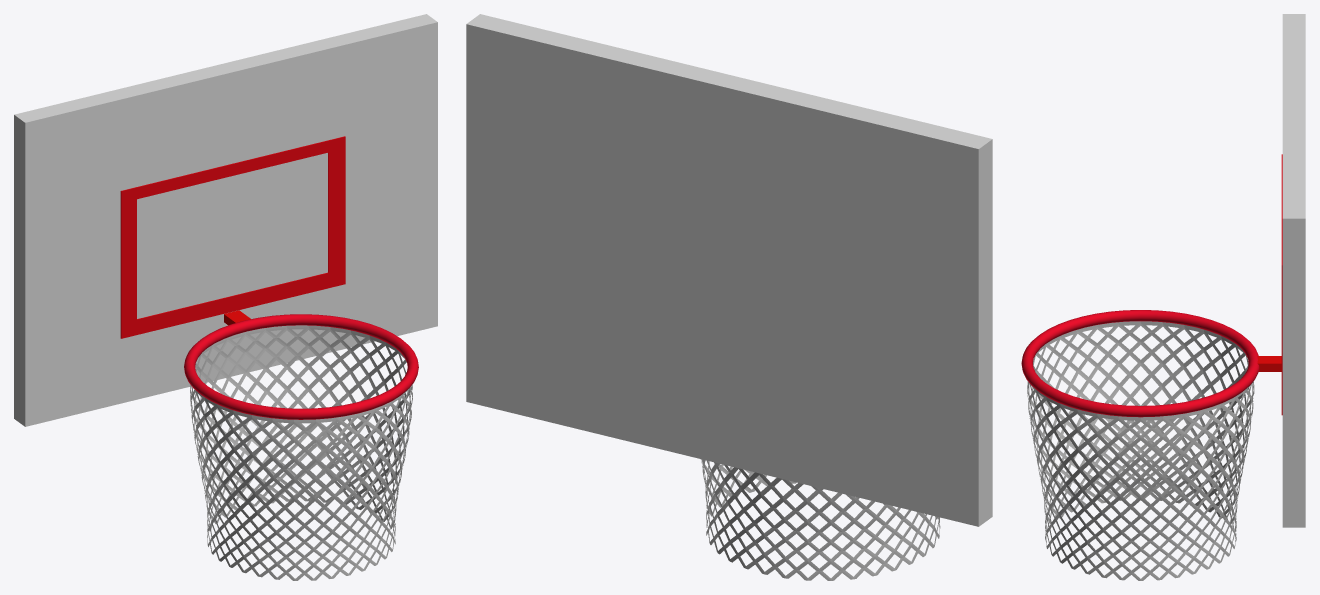
File: Basket.fbx
3 renders of one model, left to right at view 1: azimuth 30°, elevation 25°; view 2: azimuth 150°, elevation 25°; view 3: azimuth 270°, elevation 25°, orthographic. The views are drawn at different scales.
Visible parts, largest first — view 1: Cube.001, Cylinder, Cube.002, BézierCircle; view 2: Cube.001, Cylinder; view 3: Cylinder, Cube.001, BézierCircle, Cube.002, Cube.
Part boxes in pixels (x1,y1,x2,y2): Cube.001: [14, 14, 437, 426]; Cylinder: [190, 325, 412, 580]; Cube.002: [120, 136, 345, 338]; BézierCircle: [184, 314, 418, 419]; Cube.001: [466, 14, 992, 526]; Cylinder: [700, 459, 940, 580]; Cylinder: [1027, 321, 1254, 580]; Cube.001: [1282, 14, 1305, 527]; BézierCircle: [1021, 310, 1259, 417]; Cube.002: [1281, 154, 1282, 415]; Cube: [1257, 356, 1281, 371].
Size of the model in its own units: 426 by 412 by 250.
